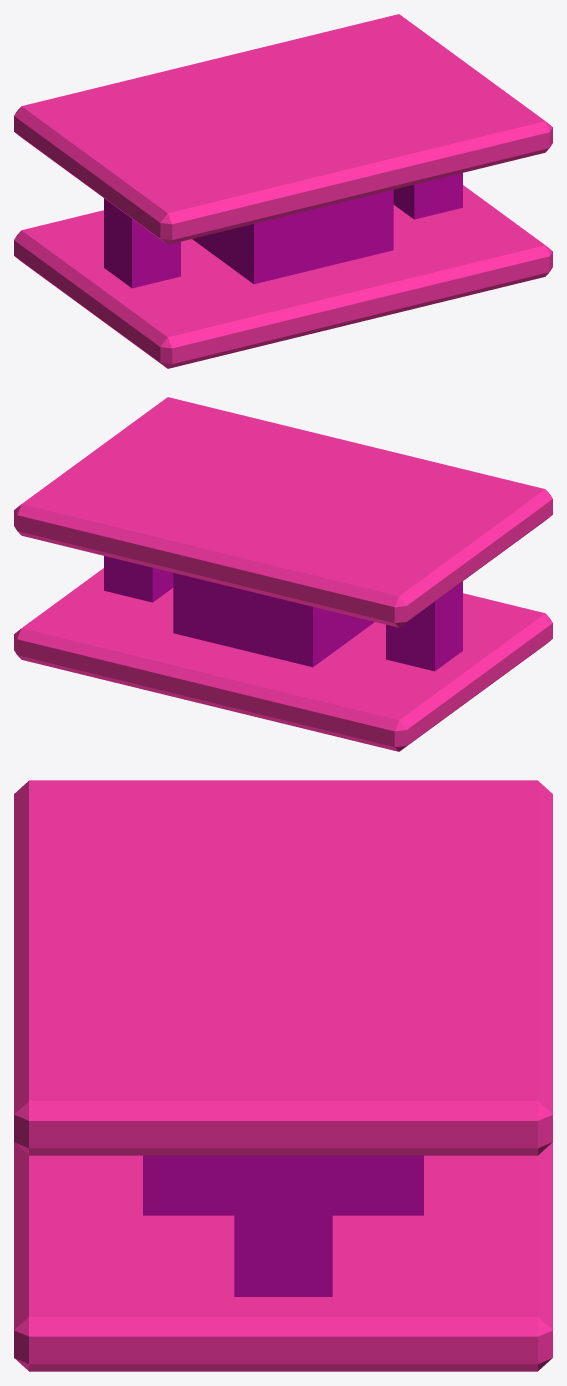
The model's file is Building_023_a.fbx.
The picture shows the model from 3 angles, top to bottom: view 1: azimuth 30°, elevation 25°; view 2: azimuth 150°, elevation 25°; view 3: azimuth 270°, elevation 25°; orthographic projection. The views are drawn at different scales.
Visible parts, largest first — view 1: Building_023_a; view 2: Building_023_a; view 3: Building_023_a.
Part boxes in pixels (bbox=[...]): Building_023_a: bbox=[14, 14, 552, 368]; Building_023_a: bbox=[14, 397, 552, 751]; Building_023_a: bbox=[14, 780, 552, 1371].
Bounding box in the file's own units: 14.6 × 5.53 × 9.98.
